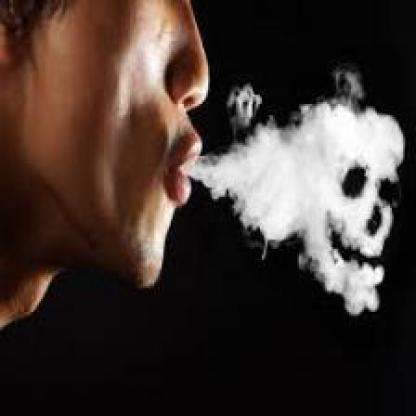Smoke: (206, 80, 399, 299)
